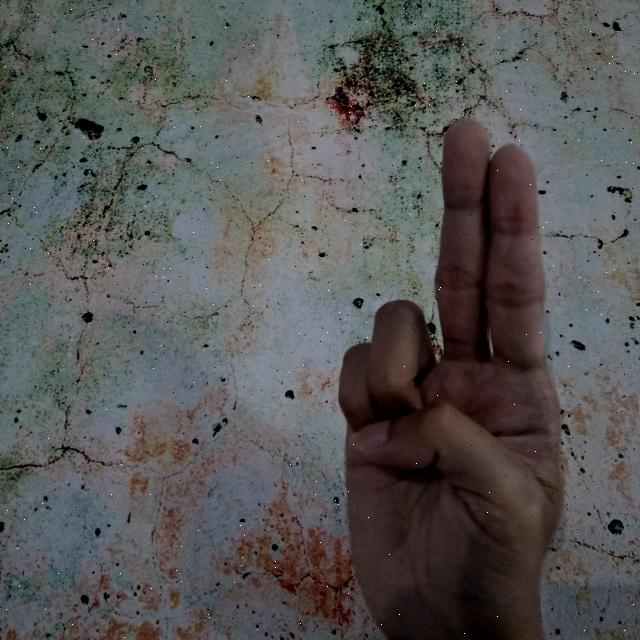U: (321, 112, 572, 640)
